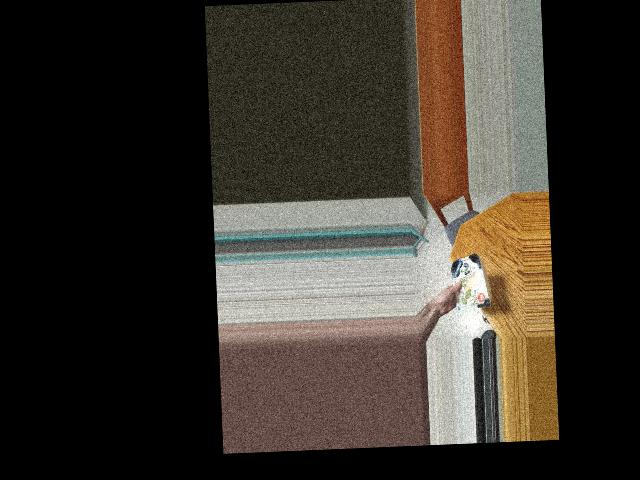cheese: (448, 252, 484, 313)
